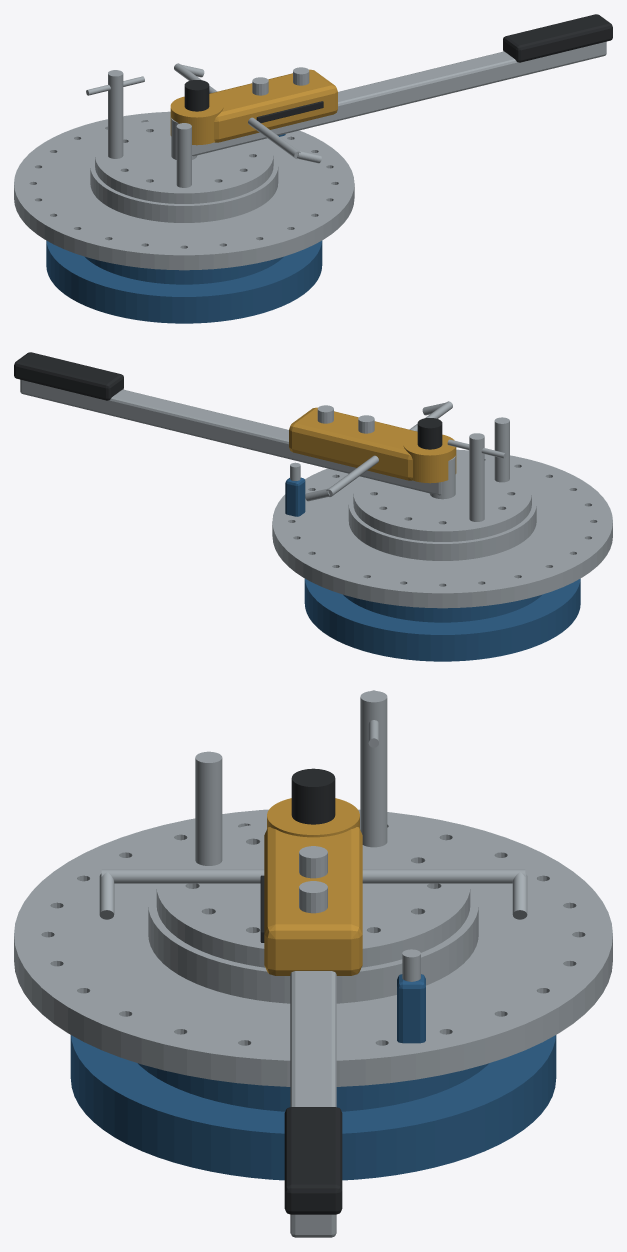
The model's file is full.glb.
3 views of the same model, one above another, from view 1: azimuth 30°, elevation 25°; view 2: azimuth 150°, elevation 25°; view 3: azimuth 270°, elevation 25° (orthographic). The views are drawn at different scales.
Parts seen in each view (by area): view 1: Perforated round worktable, Circular mounting foot, Perforated pin table, Radial long arm, Main clamp carriage, Raised forming bed, Long end grip, Pedestal neck, Raised forming boss, Upright stop pin B, Upright stop pin A, Unmarked central fastener (+2 smaller); view 2: Perforated round worktable, Circular mounting foot, Perforated pin table, Radial long arm, Main clamp carriage, Raised forming bed, Long end grip, Pedestal neck, Raised forming boss, Upright stop pin B, Upright stop pin A, Unmarked central fastener (+3 smaller); view 3: Perforated round worktable, Circular mounting foot, Perforated pin table, Main clamp carriage, Raised forming bed, Radial long arm, Long end grip, Pedestal neck, Upright stop pin B, Upright stop pin A, Transverse clamp handle 1, Unmarked central fastener (+5 smaller).
Part boxes in pixels (box(x1,y1,x2,y2)): Perforated round worktable: box(14, 111, 354, 270); Circular mounting foot: box(46, 240, 322, 323); Perforated pin table: box(95, 118, 273, 203); Radial long arm: box(192, 41, 606, 156); Main clamp carriage: box(209, 69, 337, 142); Raised forming bed: box(90, 154, 278, 222); Long end grip: box(503, 14, 612, 62); Pedestal neck: box(85, 256, 283, 284); Raised forming boss: box(170, 96, 223, 145); Upright stop pin B: box(108, 70, 123, 158); Upright stop pin A: box(176, 123, 191, 187); Unmarked central fastener: box(184, 80, 209, 111); Perforated round worktable: box(272, 449, 612, 608); Circular mounting foot: box(304, 578, 580, 661); Perforated pin table: box(353, 456, 531, 541); Radial long arm: box(20, 379, 441, 495); Main clamp carriage: box(289, 407, 417, 480); Raised forming bed: box(348, 492, 536, 560); Long end grip: box(14, 352, 123, 400); Pedestal neck: box(343, 594, 541, 622); Raised forming boss: box(403, 434, 456, 483); Upright stop pin B: box(469, 433, 484, 521); Upright stop pin A: box(494, 417, 509, 482); Unmarked central fastener: box(417, 418, 442, 449); Perforated round worktable: box(14, 809, 612, 1086); Circular mounting foot: box(70, 1035, 556, 1180); Perforated pin table: box(156, 822, 470, 967); Main clamp carriage: box(264, 827, 362, 975); Raised forming bed: box(148, 883, 478, 1003); Radial long arm: box(290, 971, 336, 1237); Long end grip: box(284, 1107, 342, 1214); Pedestal neck: box(138, 1063, 488, 1111); Upright stop pin B: box(360, 691, 387, 847); Upright stop pin A: box(195, 751, 222, 865); Transverse clamp handle 1: box(362, 869, 525, 883); Unmarked central fastener: box(291, 768, 335, 824).
Bounding box in the file's own units: 1.12 × 0.361 × 0.58.
